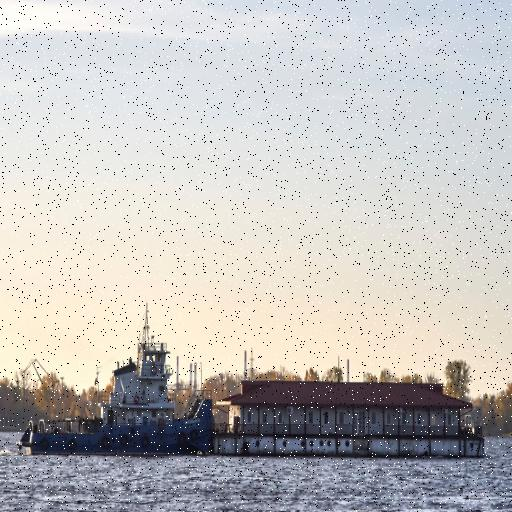tugboat: (16, 323, 221, 471)
